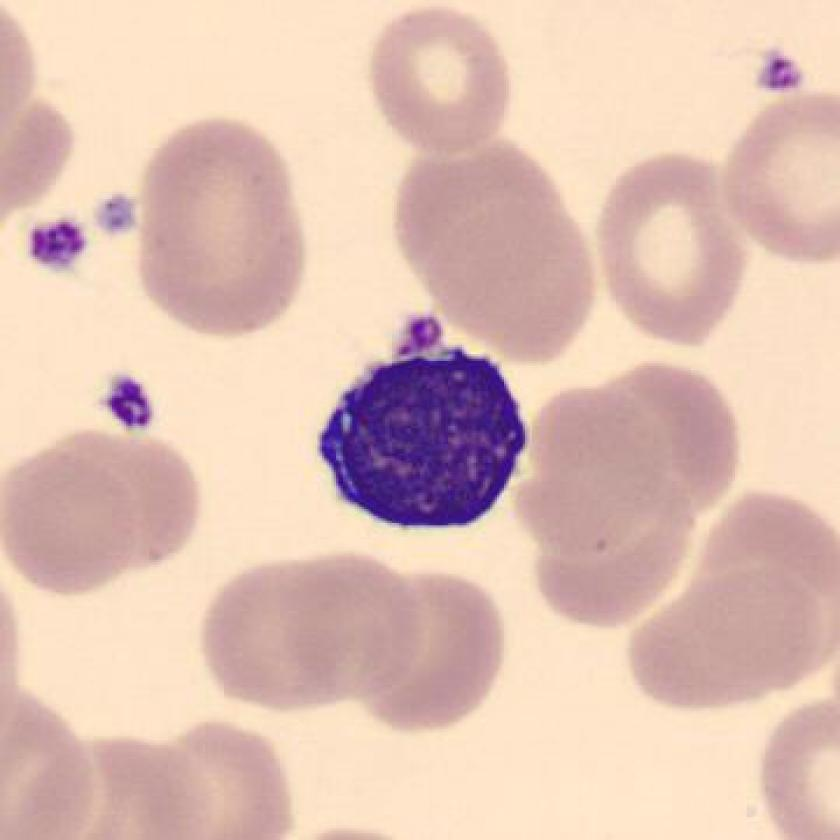lymphocyte: (307, 330, 542, 557)
